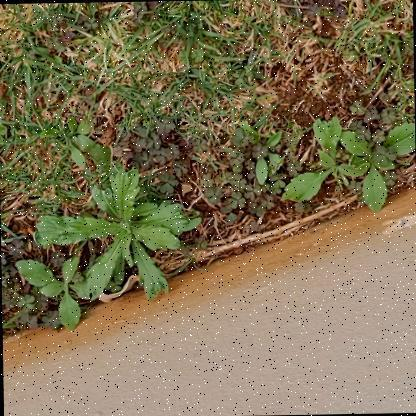Weeds: (33, 166, 202, 301), (280, 113, 370, 207), (337, 113, 415, 217), (13, 257, 108, 331)
